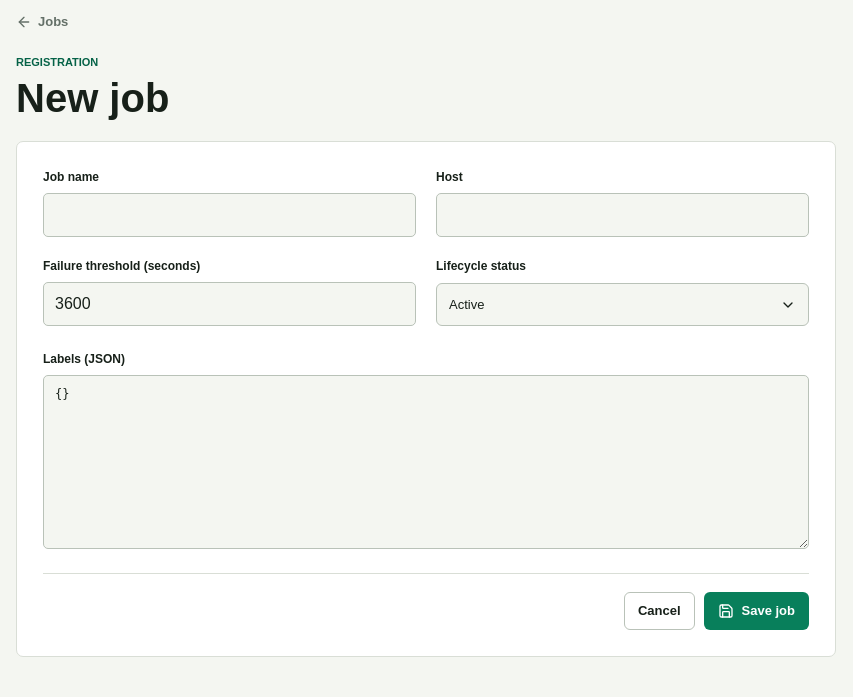
it: JobFormPage › rejects non-object labels JSON 1
This screenshot has width=853, height=697.
Replace the text in the text box labelled "Labels (JSON)" with "1" at (426, 462), box [43, 375, 809, 548]
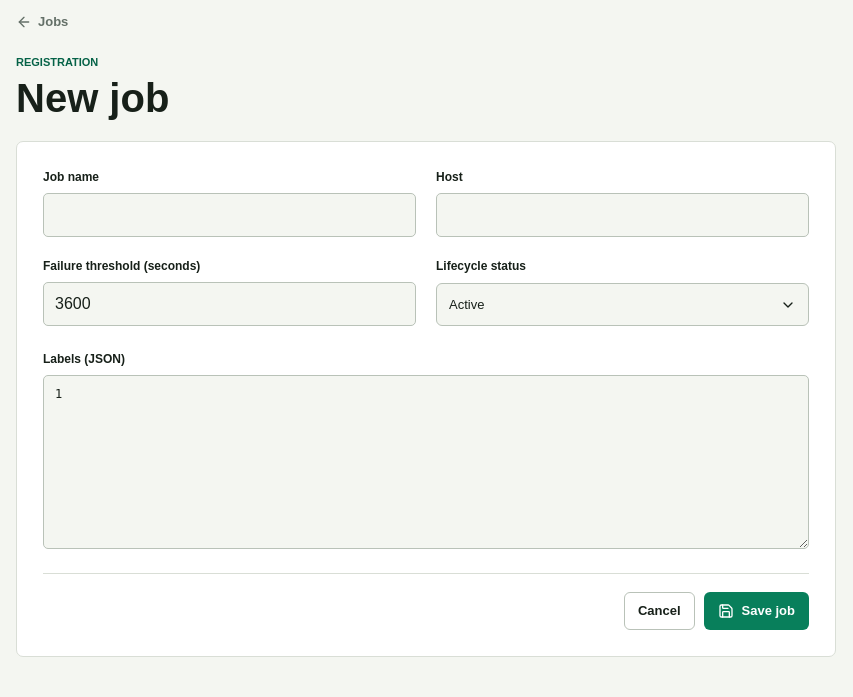
Click the button "Save job" at (756, 610), box [704, 592, 809, 630]
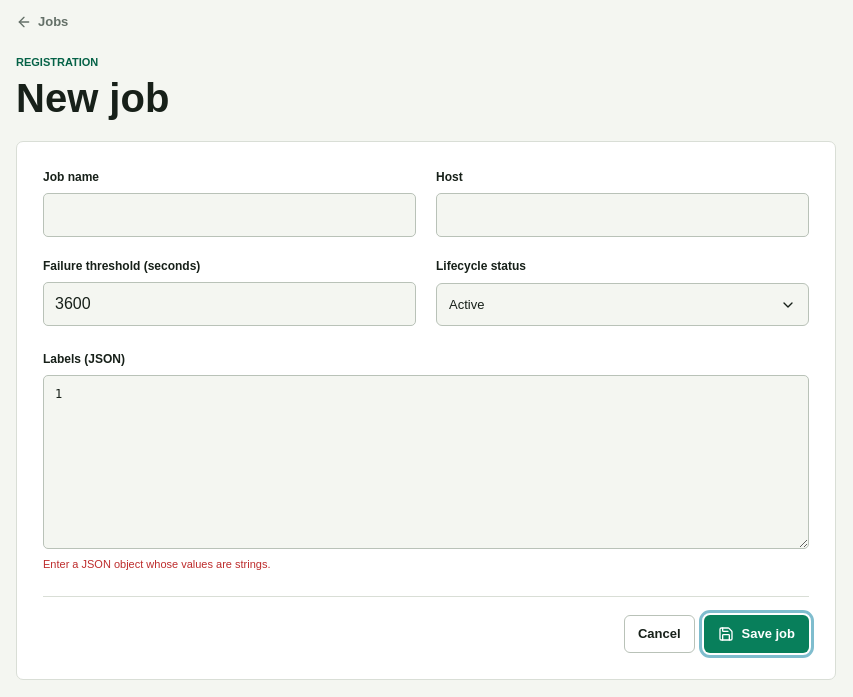
Expected: the text "Enter a JSON object whose values are strings." is shown, [43, 558, 270, 570]
